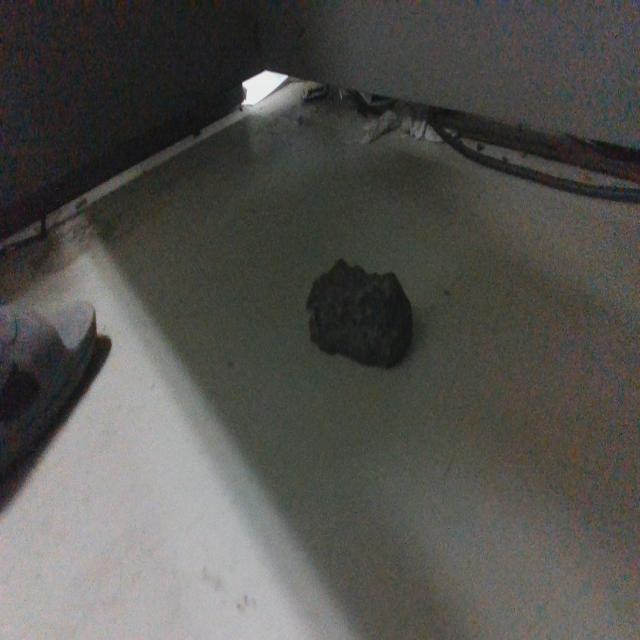stone: (307, 256, 414, 370)
